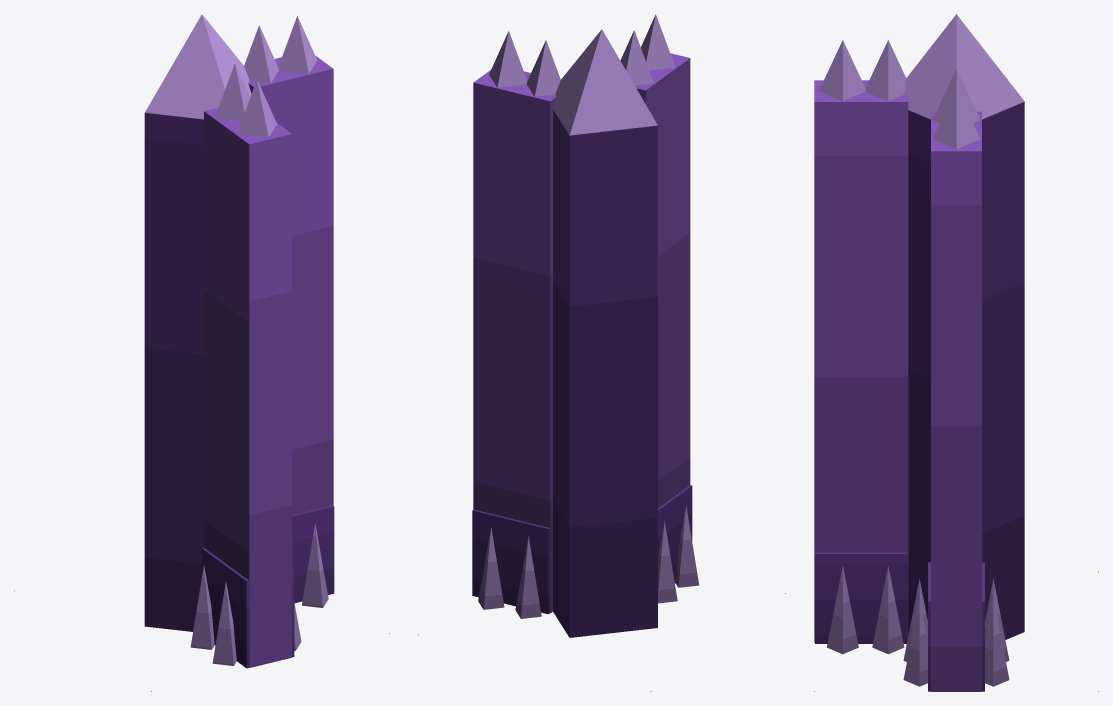
The model's file is wall_crystal_corner.glb.
3 renders of one model, left to right at view 1: azimuth 30°, elevation 25°; view 2: azimuth 150°, elevation 25°; view 3: azimuth 270°, elevation 25°, orthographic. The views are drawn at different scales.
Bounding box in the file's own units: 1 × 2.4 × 1.
Materials: 1 (1 with a texture image).
